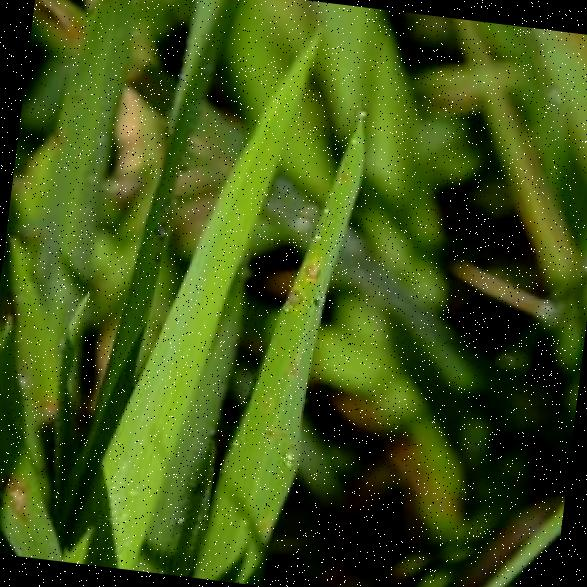Leaf_smut: (288, 233, 346, 290), (256, 272, 313, 329)
